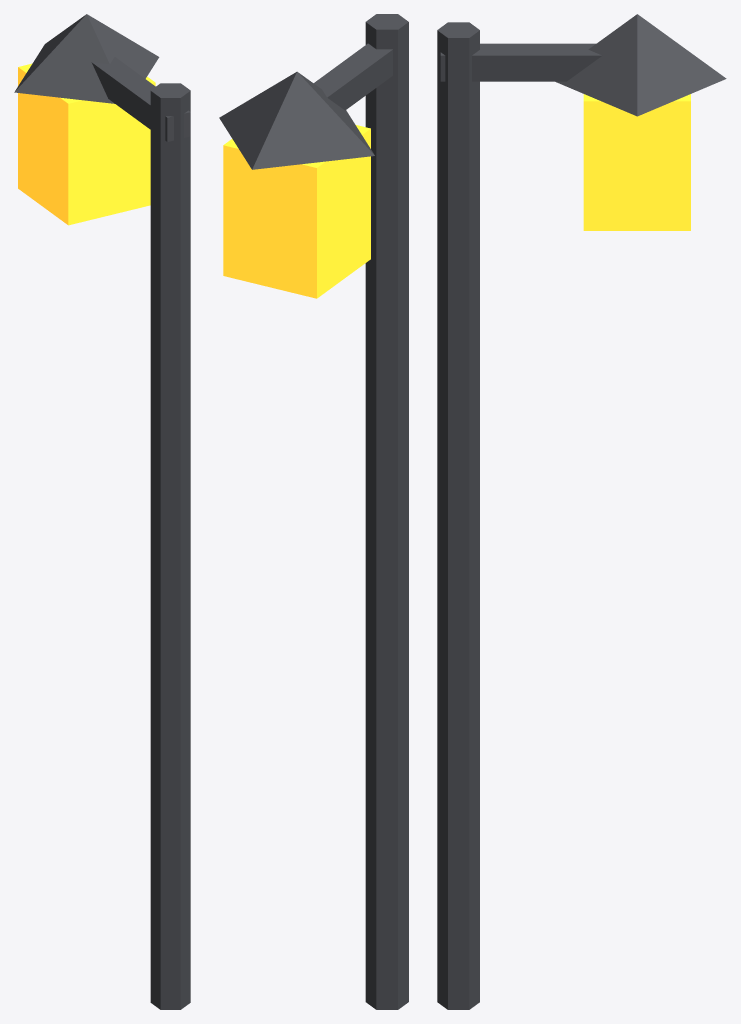
Rendered from lamp.glb.
3 renders of one model, left to right at view 1: azimuth 30°, elevation 25°; view 2: azimuth 150°, elevation 25°; view 3: azimuth 270°, elevation 25°, orthographic. The views are drawn at different scales.
Parts seen in each view (by area): view 1: lamp; view 2: lamp; view 3: lamp.
Part boxes in pixels (box(x1,y1,x2,y2)): lamp: box(14, 14, 190, 1009); lamp: box(219, 14, 408, 1009); lamp: box(437, 14, 726, 1009).
Bounding box in the file's own units: 0.5 × 3.05 × 0.81.
